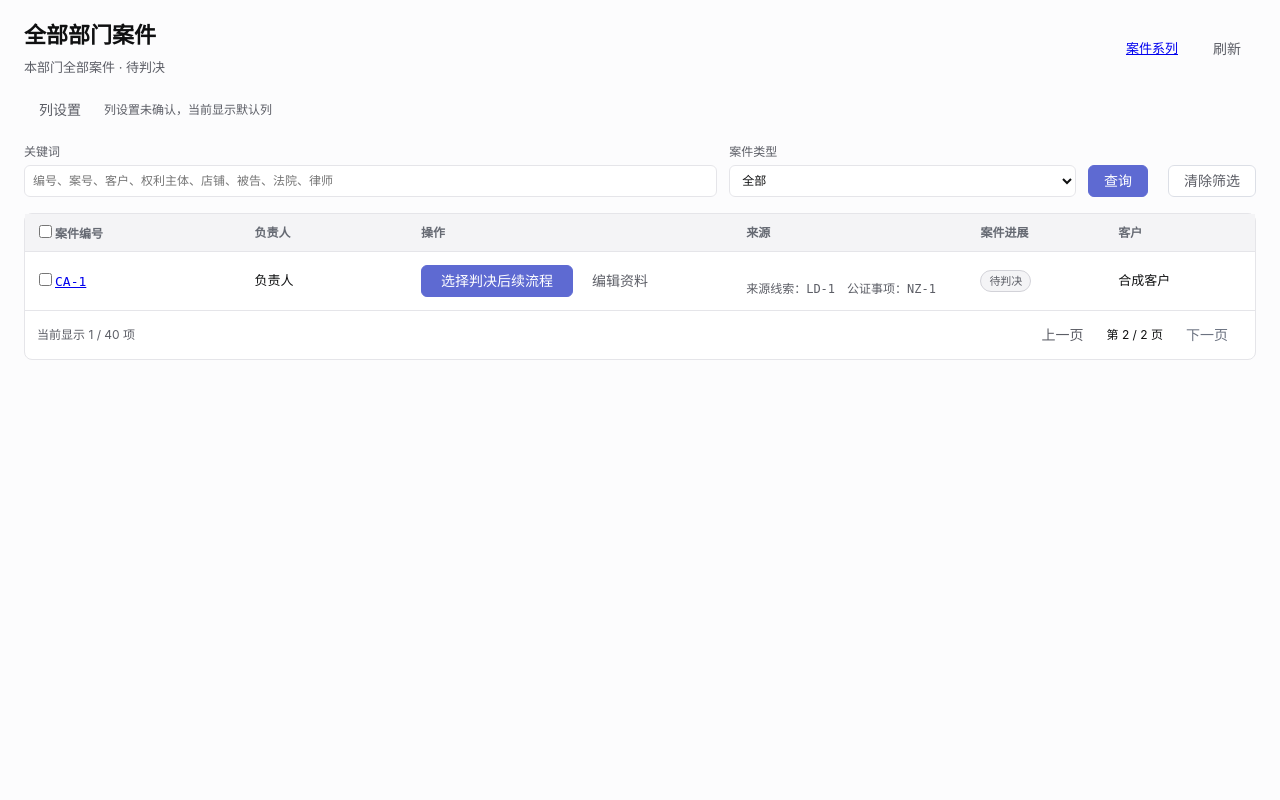
it: case list workflow session › does not expose another actor recovery and denies a fresh revoked operation before POST
Click the button "选择判决后续流程" at x=497, y=281, box [421,265,573,297]
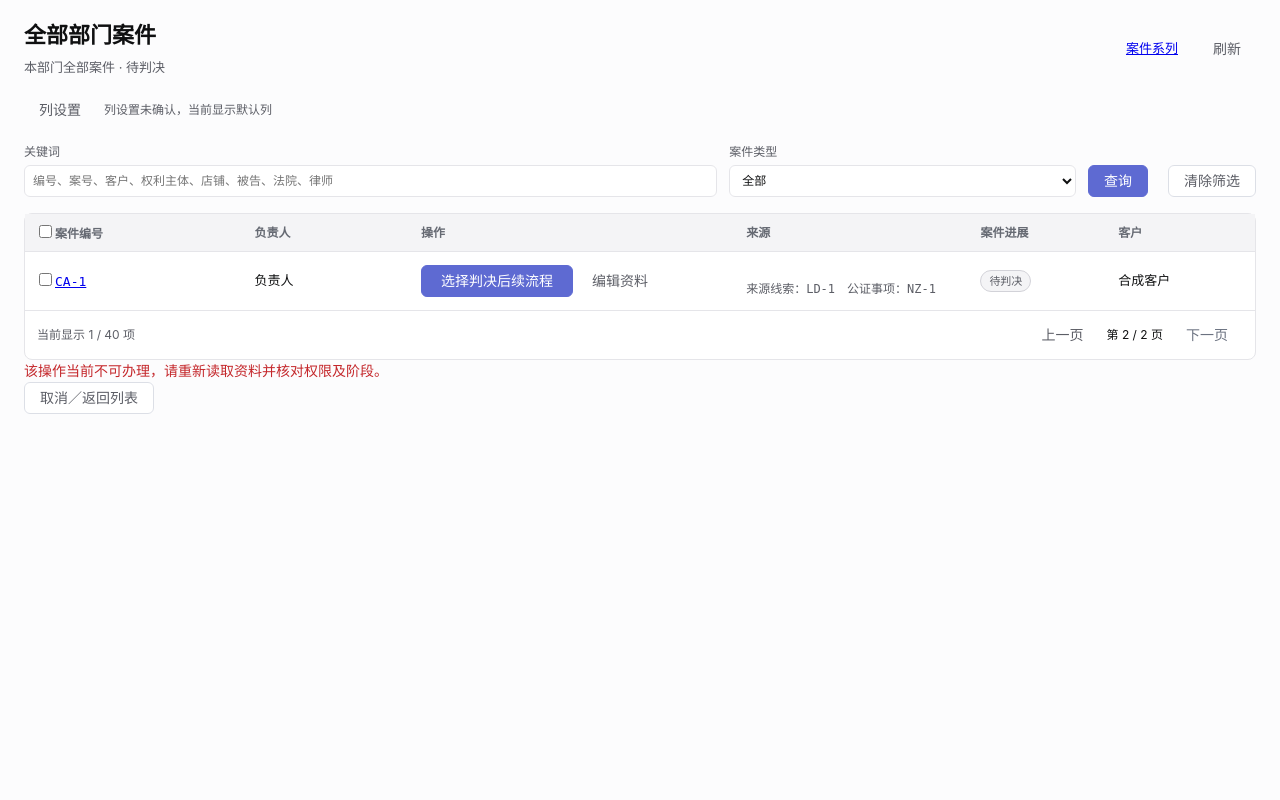
Check: the text "该操作当前不可办理" is shown, box [24,362,388,379]
